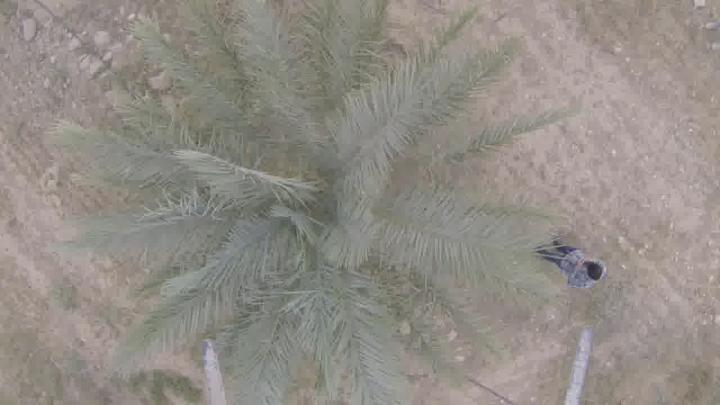Date-Palm-Crown: (170, 50, 462, 358)
